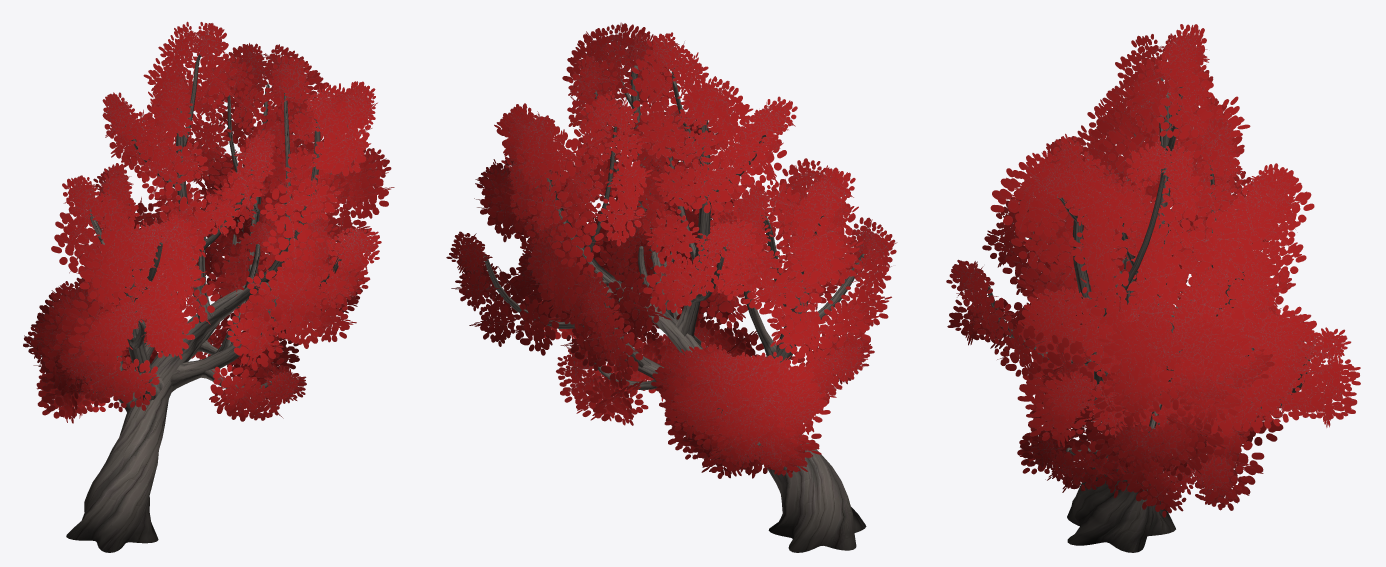
The model's file is tree_twisted_1.glb.
The picture shows the model from 3 angles, left to right: view 1: azimuth 30°, elevation 25°; view 2: azimuth 150°, elevation 25°; view 3: azimuth 270°, elevation 25°; orthographic projection. The views are drawn at different scales.
Parts seen in each view (by area): view 1: TwistedTree_1; view 2: TwistedTree_1; view 3: TwistedTree_1.
Part boxes in pixels (x1,y1,x2,y2): TwistedTree_1: (23, 21, 394, 552); TwistedTree_1: (446, 22, 897, 552); TwistedTree_1: (946, 24, 1360, 552).
Bounding box in the file's own units: 13.52 × 16.73 × 11.55.
Materials: 2 (2 with a texture image).
